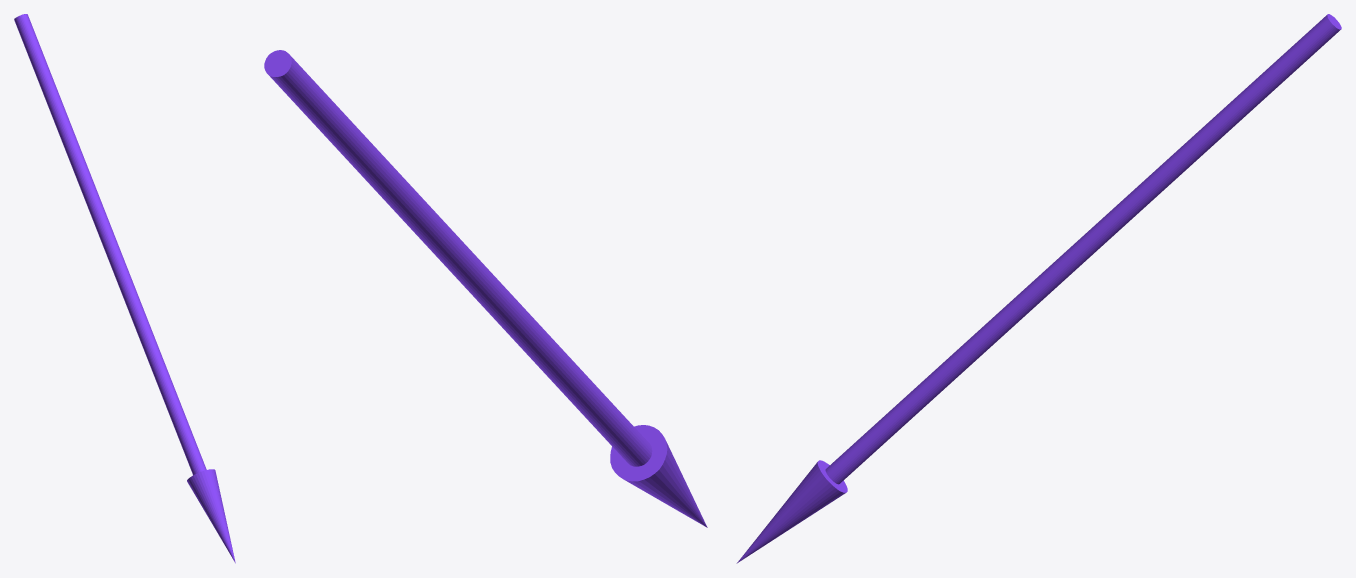
The model's file is Axis 2 C_SF6.gltf.
The picture shows the model from 3 angles, left to right: view 1: azimuth 30°, elevation 25°; view 2: azimuth 150°, elevation 25°; view 3: azimuth 270°, elevation 25°; orthographic projection. The views are drawn at different scales.
Visible parts, largest first — view 1: Eje_C2c_Eje_Cono.010; view 2: Eje_C2c_Eje_Cono.010; view 3: Eje_C2c_Eje_Cono.010.
Boxes of the visible parts, x1=… form: Eje_C2c_Eje_Cono.010: x1=14, y1=14, x2=235, y2=563; Eje_C2c_Eje_Cono.010: x1=264, y1=50, x2=707, y2=527; Eje_C2c_Eje_Cono.010: x1=736, y1=14, x2=1341, y2=563.
Size of the model in its own units: 0.1512 by 2.15 by 2.15.
